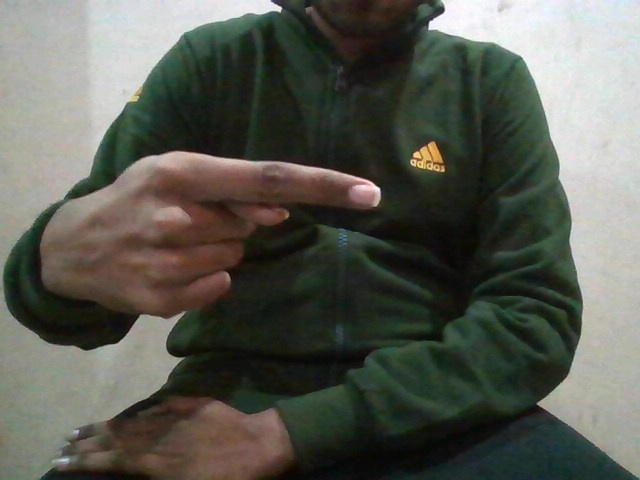G: (54, 151, 375, 305)
